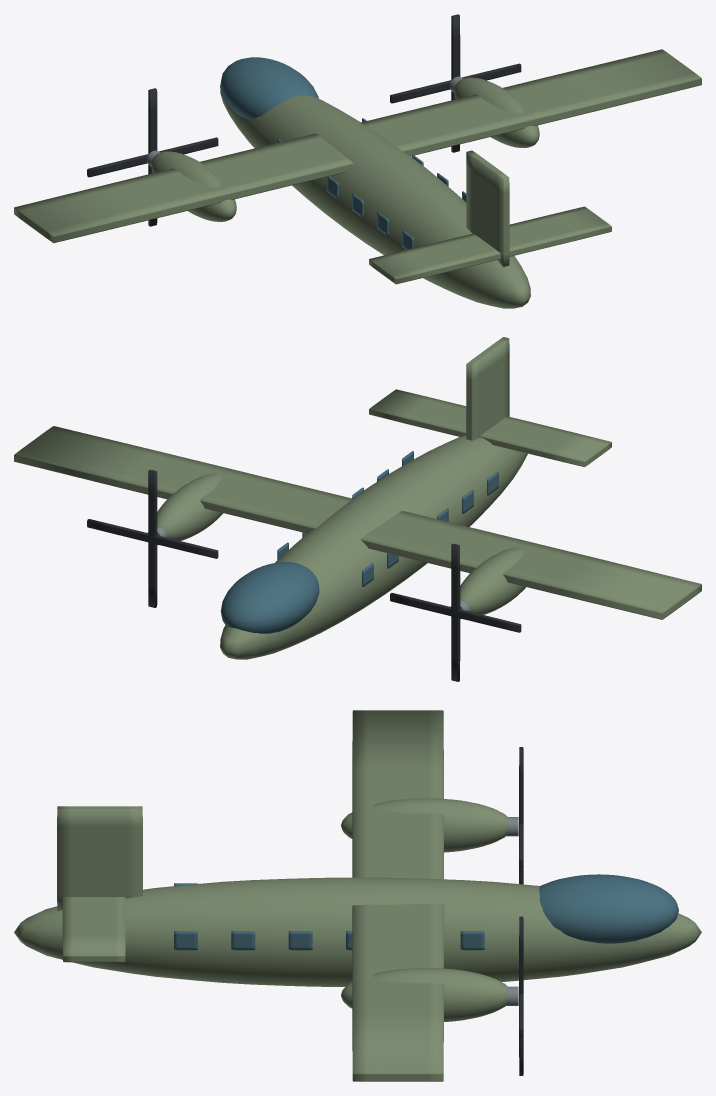
The model's file is SM_CargoPlane.glb.
3 renders of one model, top to bottom at view 1: azimuth 30°, elevation 25°; view 2: azimuth 150°, elevation 25°; view 3: azimuth 270°, elevation 25°, orthographic. The views are drawn at different scales.
Parts seen in each view (by area): view 1: SM_CargoPlane; view 2: SM_CargoPlane; view 3: SM_CargoPlane.
Part boxes in pixels (bbox=[...]): SM_CargoPlane: bbox=[14, 14, 701, 308]; SM_CargoPlane: bbox=[14, 337, 701, 681]; SM_CargoPlane: bbox=[14, 710, 701, 1081].
Size of the model in its own units: 15 by 3.5 by 12.
